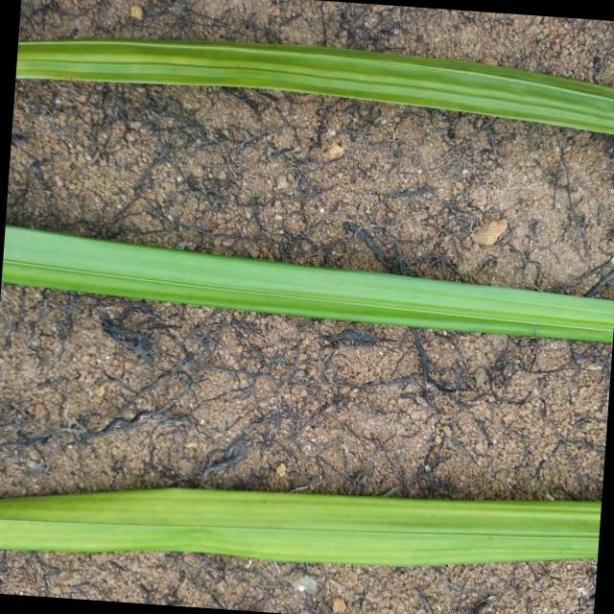nitrogen: (0, 214, 614, 341), (16, 29, 614, 139), (0, 473, 614, 568)
